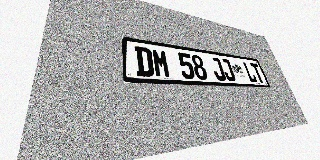5: (177, 52, 196, 79)
8: (190, 54, 208, 80)
D: (134, 46, 155, 77)
J: (209, 57, 227, 81), (220, 58, 236, 81)
L: (242, 62, 258, 82)
M: (151, 48, 171, 78)
T: (250, 63, 265, 83)
